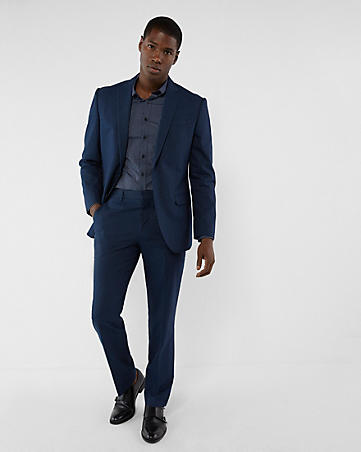feet: (101, 363, 173, 445)
